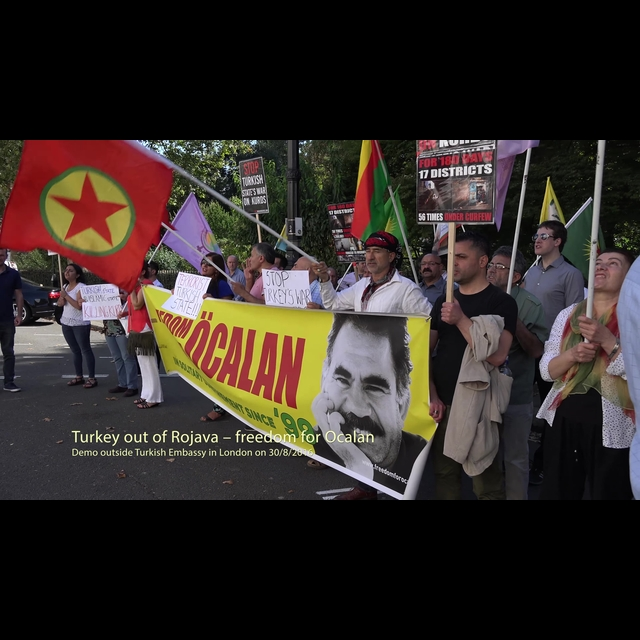APO: (326, 321, 407, 425)
PKK: (33, 162, 140, 261)
